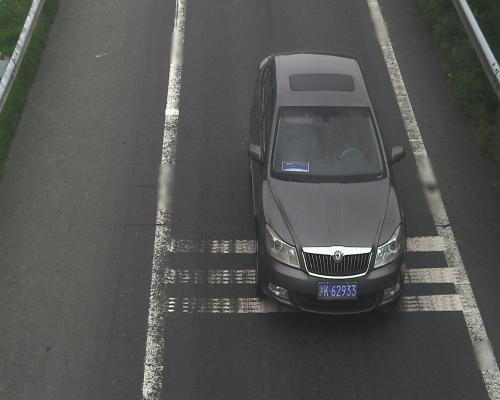Carplate: (316, 277, 362, 306)
